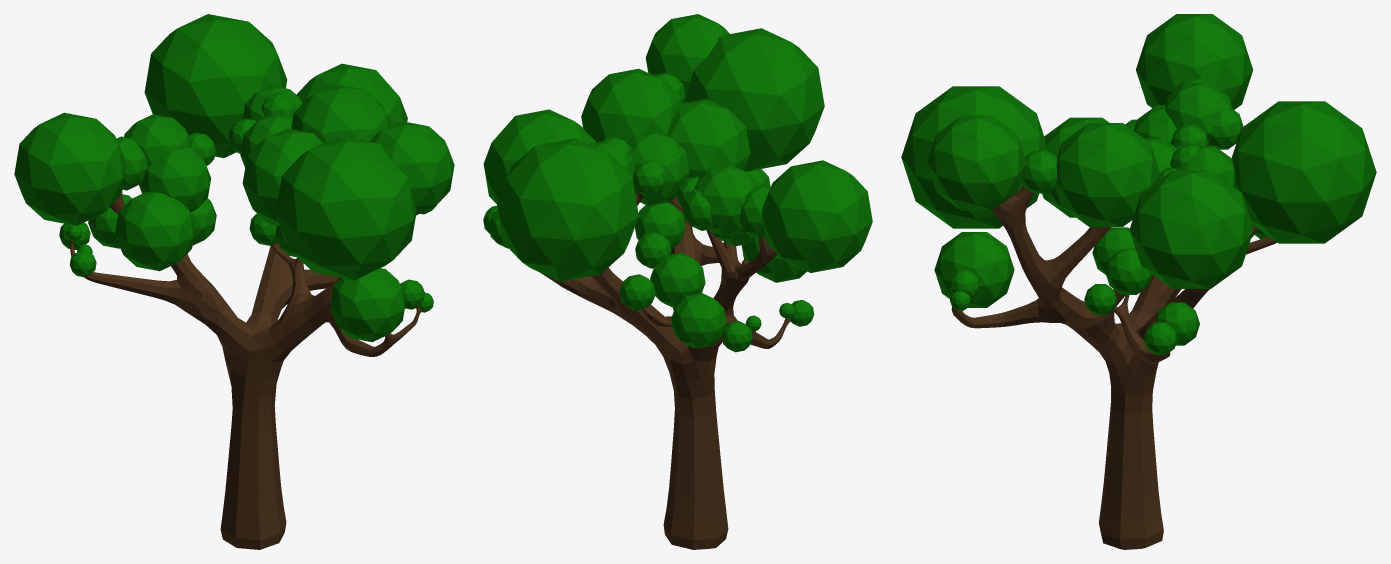
File: Agac.fbx
3 renders of one model, left to right at view 1: azimuth 30°, elevation 25°; view 2: azimuth 150°, elevation 25°; view 3: azimuth 270°, elevation 25°, orthographic. The views are drawn at different scales.
Visible parts, largest first — view 1: Icosphere.013; view 2: Icosphere.013; view 3: Icosphere.013.
Part boxes in pixels (x1,y1,x2,y2): Icosphere.013: [14, 14, 454, 549]; Icosphere.013: [483, 14, 872, 549]; Icosphere.013: [901, 14, 1376, 549].
Size of the model in its own units: 1662 by 1812 by 1684.
